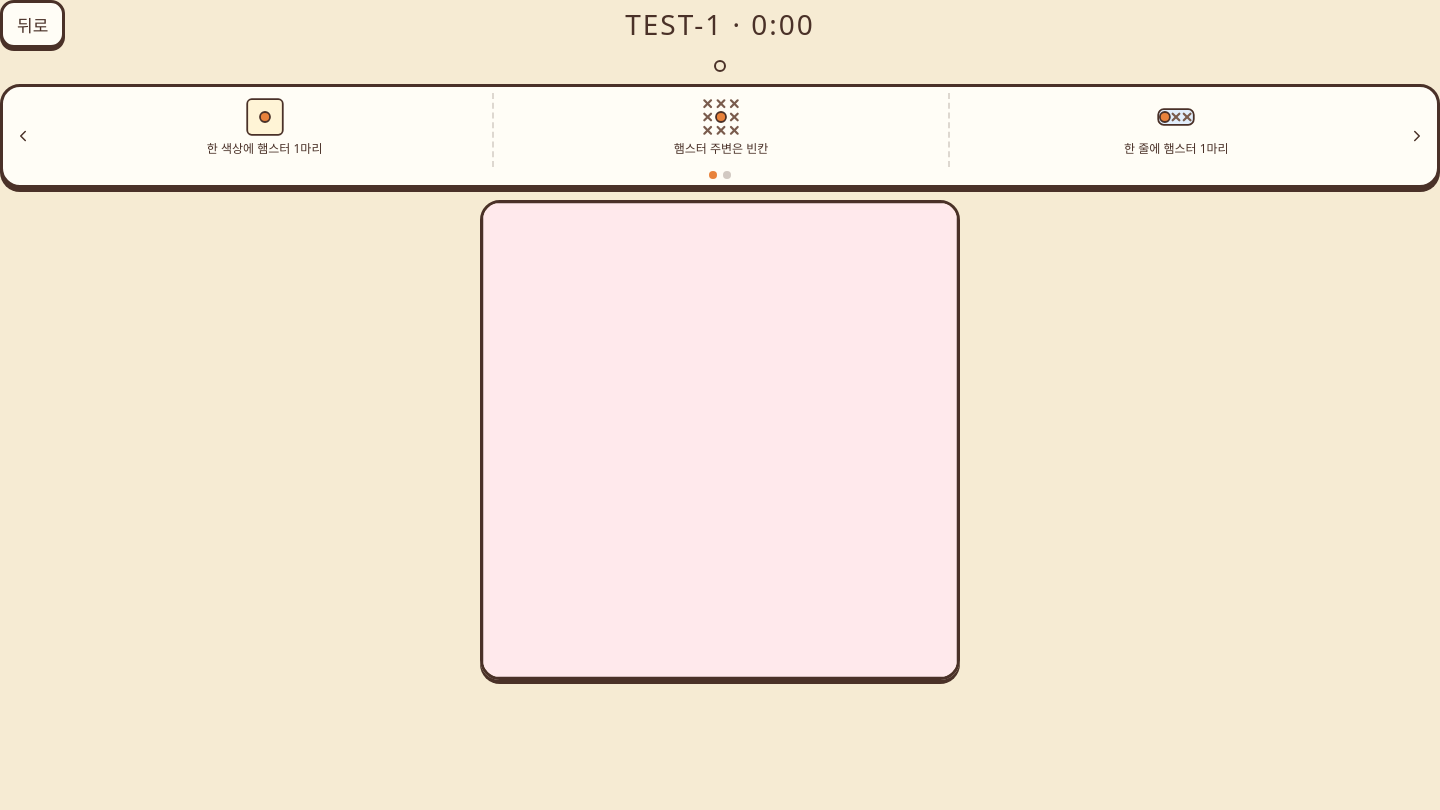
Test: StageScene integration › 퍼즐 클리어 시 StageOverlayHost를 통해 ClearDialog가 DOM에 나타나고 다시하기 클릭 시 닫힌다
Double-click the button named "빈칸" at (720, 440), box x1=483 y1=203 x2=957 y2=677
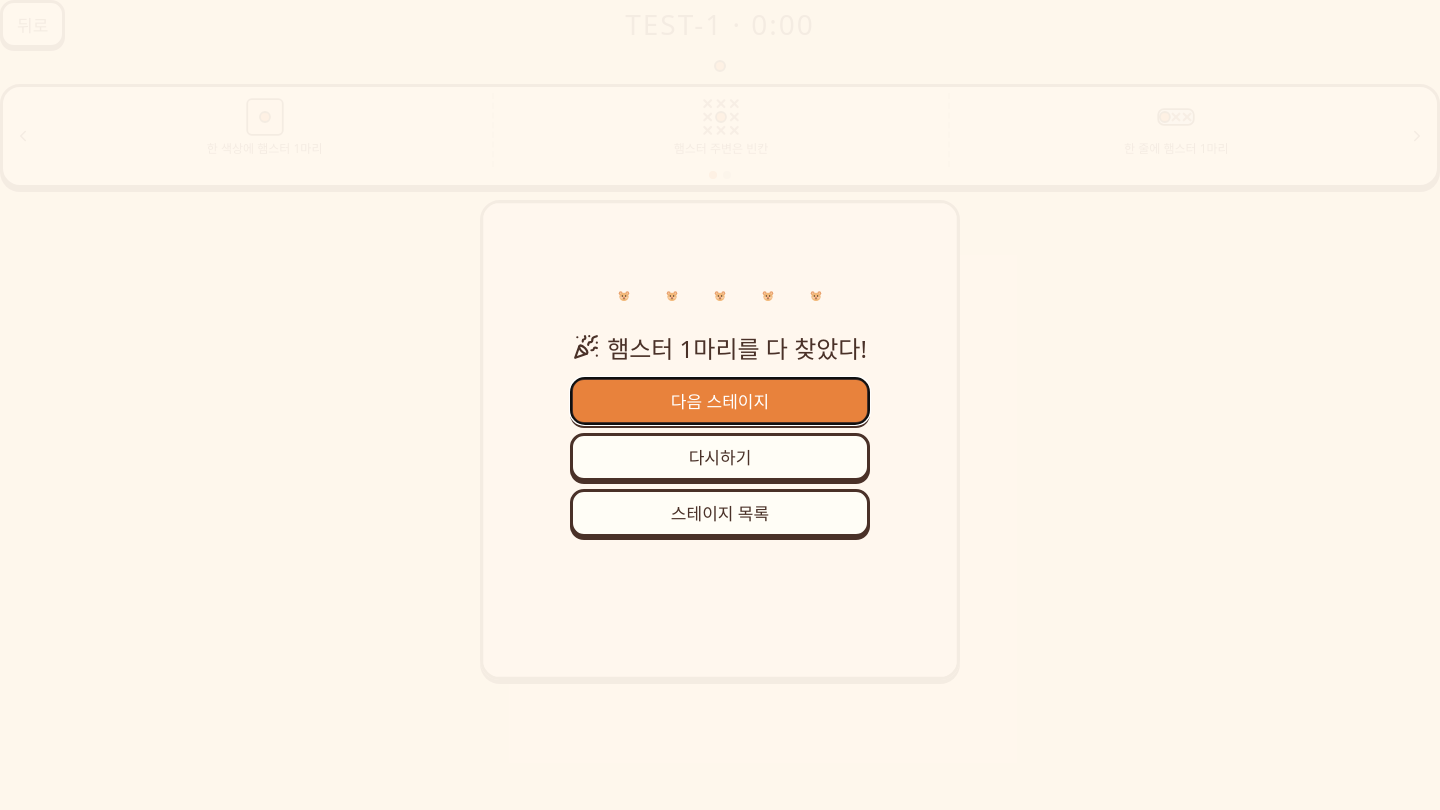
Expected: the dialog named "클리어" is shown
Click the button "다시하기" at (720, 456), box x1=570 y1=432 x2=870 y2=480
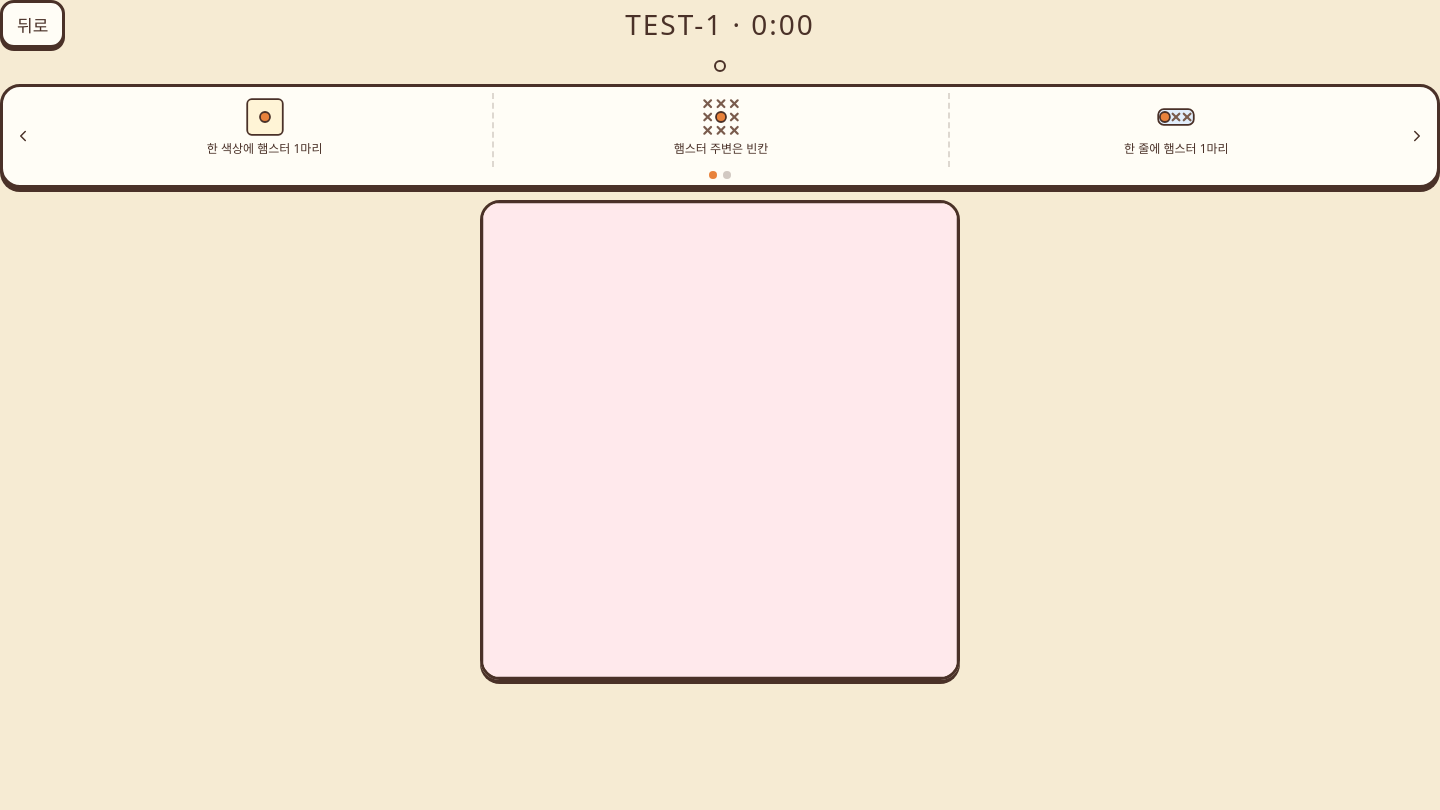
Expected: the dialog "클리어" is gone
